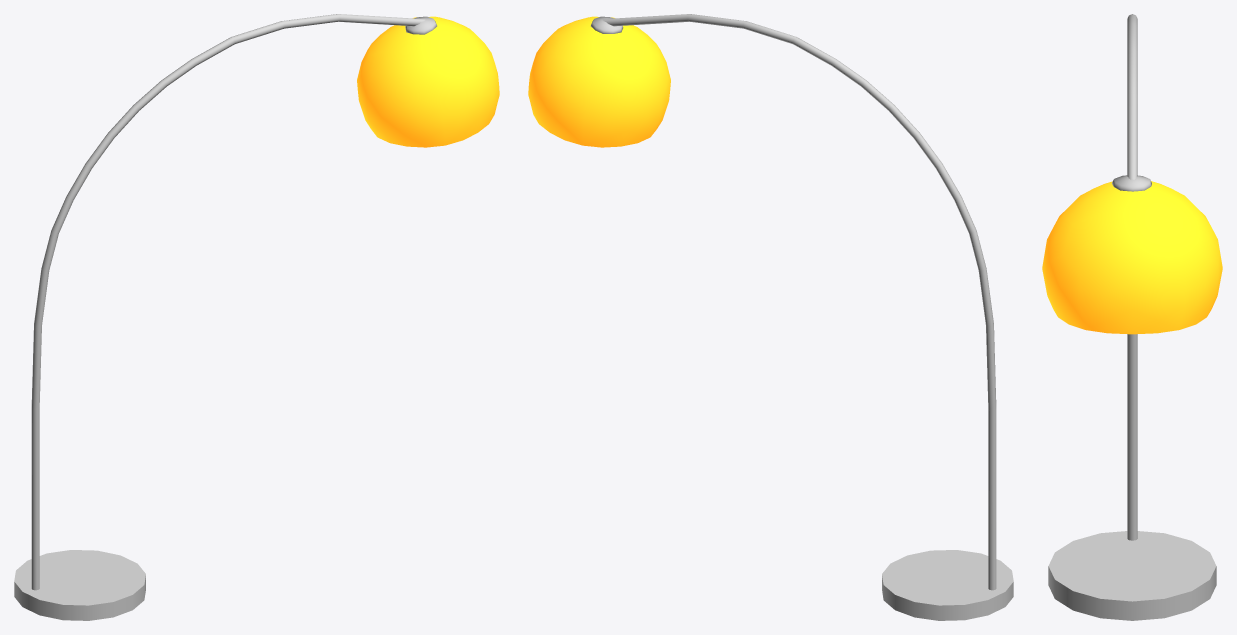
Rendered from Orange Light.fbx.
3 views of the same model, side by side, from view 1: azimuth 30°, elevation 25°; view 2: azimuth 150°, elevation 25°; view 3: azimuth 270°, elevation 25° (orthographic). The views are drawn at different scales.
Visible parts, largest first — view 1: Icosphere, Circle.001, Plane.006; view 2: Icosphere, Circle.001, Plane.006; view 3: Icosphere, Circle.001, Plane.006, Icosphere.001.
Part boxes in pixels (x1,y1,x2,y2): Icosphere: (357,16,499,147); Circle.001: (14,550,145,620); Plane.006: (31,14,425,590); Icosphere: (528,16,670,147); Circle.001: (882,550,1013,620); Plane.006: (602,14,996,590); Icosphere: (1042,181,1222,334); Circle.001: (1048,531,1216,620); Plane.006: (1127,14,1137,540); Icosphere.001: (1112,175,1151,191).
Size of the model in its own units: 9442 by 2503 by 10090.
